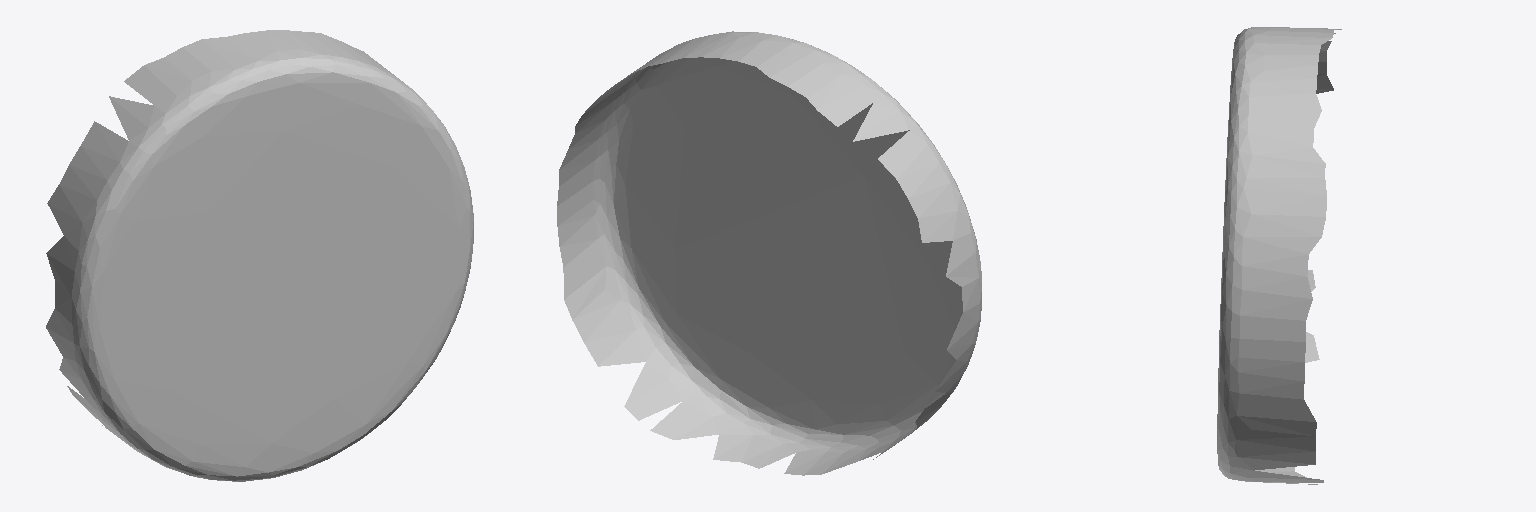
File: rocketWindow.obj
3 views of the same model, side by side, from view 1: azimuth 30°, elevation 25°; view 2: azimuth 150°, elevation 25°; view 3: azimuth 270°, elevation 25° (orthographic).
Parts seen in each view (by area): view 1: window_Rocket_CUBezierCurve.001; view 2: window_Rocket_CUBezierCurve.001; view 3: window_Rocket_CUBezierCurve.001.
Boxes of the visible parts, x1,y1,x2,y2 form: window_Rocket_CUBezierCurve.001: [46, 30, 473, 481]; window_Rocket_CUBezierCurve.001: [557, 31, 981, 475]; window_Rocket_CUBezierCurve.001: [1217, 27, 1341, 484].
Size of the model in its own units: 0.2287 by 0.2283 by 0.0628.